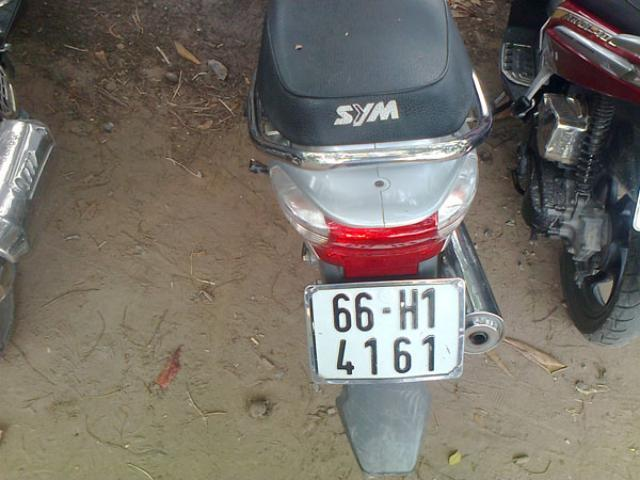plate: (307, 285, 465, 379)
